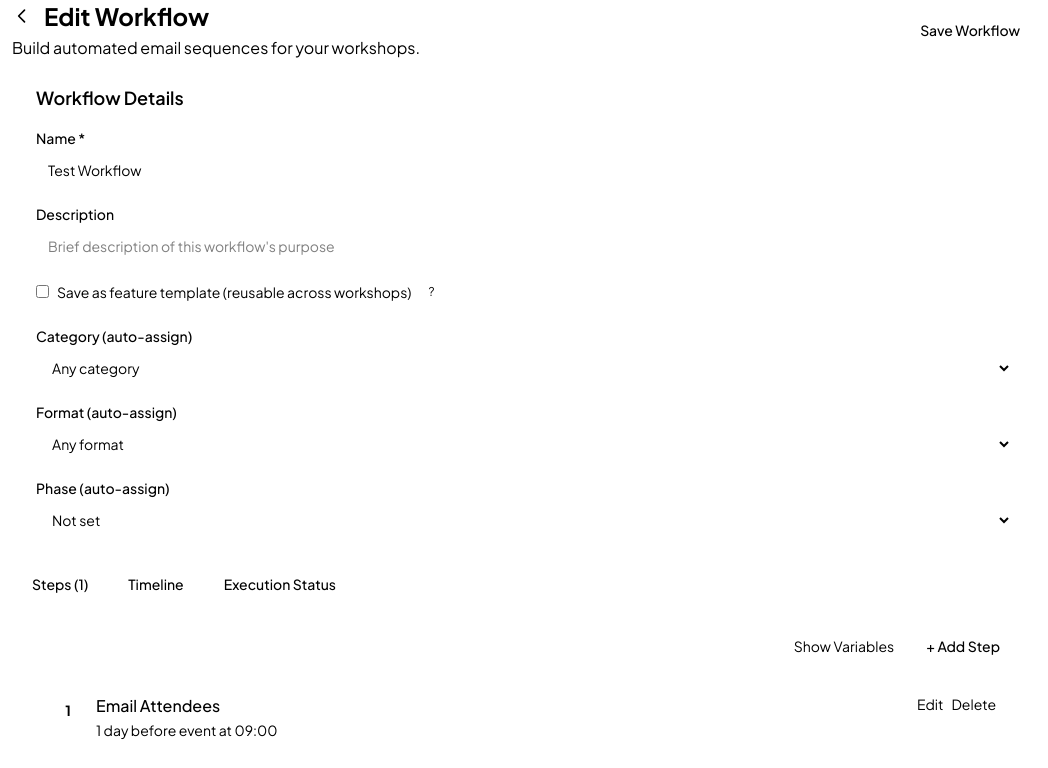
Scenario: StepCard: switching from EMAIL_ATTENDEES with template to SEND_SURVEY_LINK shows subject/body
Click the button "Edit": (930, 704) left=917, top=694, right=943, bottom=714
(page scrolled)
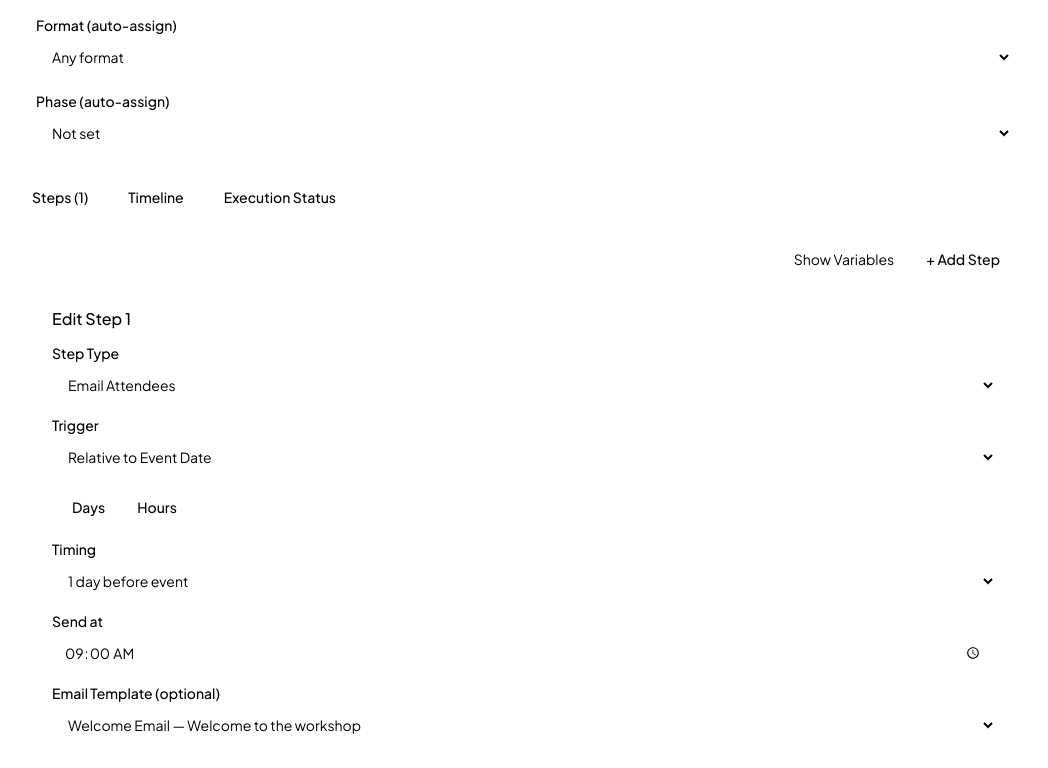
Expected: the field with placeholder "your {{workshopTitle}} workshop is tomorrow" is not shown
Expected: the field with placeholder "your workshop is coming up" is not shown
Select "Send Survey Link" in the dropdown below "Step Type": (524, 384) left=52, top=366, right=996, bottom=402
(page scrolled)
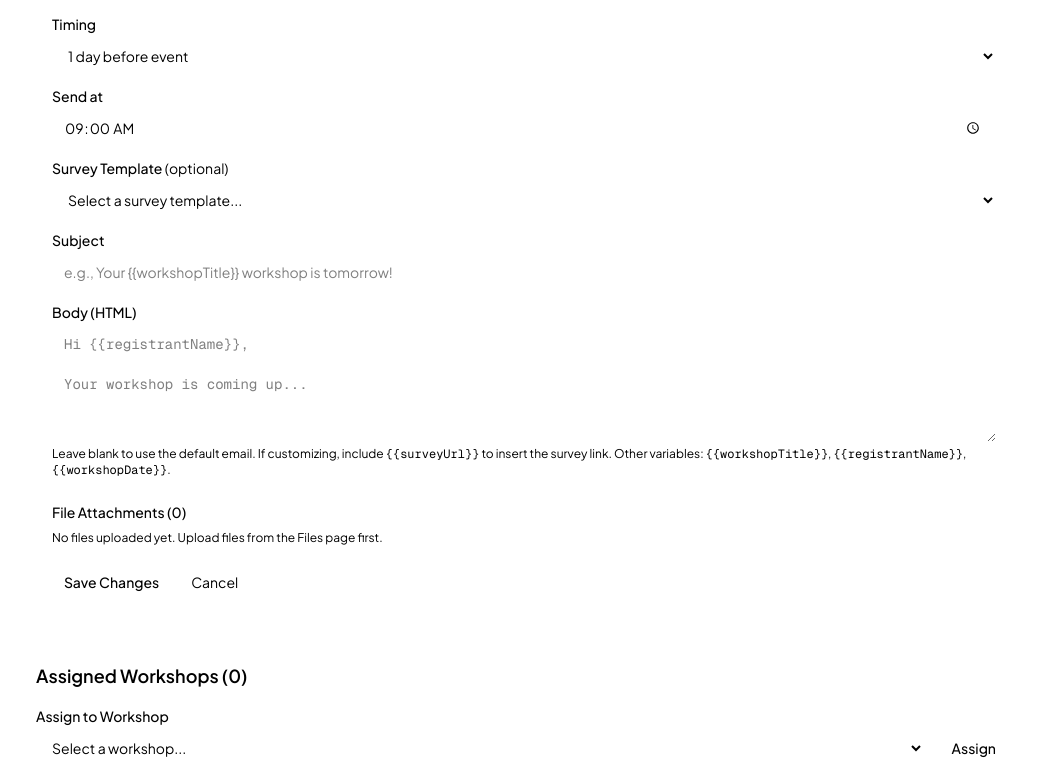
Result: the field with placeholder "e.g., Your {{workshopTitle}} workshop is tomorrow!" is shown at left=52, top=254, right=996, bottom=290
Result: the text box with placeholder "Hi {{registrantName}}, Your workshop is coming up..." is shown at left=52, top=326, right=996, bottom=442
